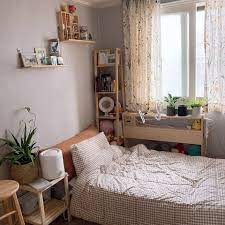Bed: (43, 124, 225, 225)
curtain: (123, 1, 160, 109), (199, 1, 225, 106)
